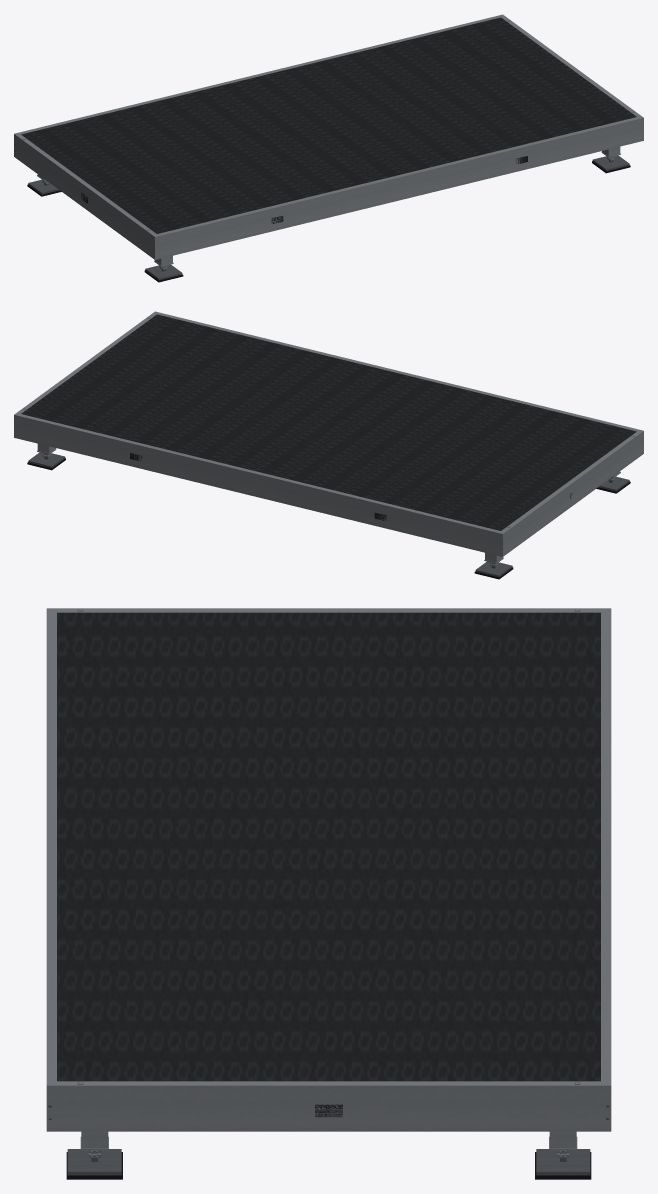
File: stage_deck_2x1_h020.obj
3 views of the same model, one above another, from view 1: azimuth 30°, elevation 25°; view 2: azimuth 150°, elevation 25°; view 3: azimuth 270°, elevation 25° (orthographic). The views are drawn at different scales.
Visible parts, largest first — view 1: part_4, part_43, part_81, part_64, part_28, part_100, part_124, part_10, part_55; view 2: part_4, part_6, part_81, part_28, part_64, part_100, part_46, part_124, part_10; view 3: part_4, part_104, part_28, part_64, part_100, part_124, part_46, part_10, part_508, part_634, part_82.
Boxes of the visible parts, x1,y1,x2,y2 form: part_4: (21,17,636,233); part_43: (155,118,643,259); part_81: (14,135,154,259); part_64: (153,116,642,236); part_28: (15,15,504,135); part_100: (17,134,156,234); part_124: (501,16,640,116); part_10: (14,14,502,133); part_55: (155,132,602,242); part_4: (21,314,636,530); part_6: (14,415,502,556); part_81: (503,432,643,556); part_28: (16,413,504,533); part_64: (153,312,641,432); part_100: (501,431,639,531); part_46: (155,311,643,430); part_124: (18,313,156,413); part_10: (14,414,502,533); part_4: (57,612,600,1081); part_104: (49,1085,608,1131); part_28: (601,608,611,1085); part_64: (46,608,56,1085); part_100: (57,608,600,612); part_124: (57,1081,600,1085); part_46: (46,608,48,1085); part_10: (609,608,611,1085); part_508: (536,1149,590,1171); part_634: (67,1149,121,1171); part_82: (52,608,602,609).
Bounding box in the file's own units: 2 × 0.201 × 1.
3 materials, 3 textured.
